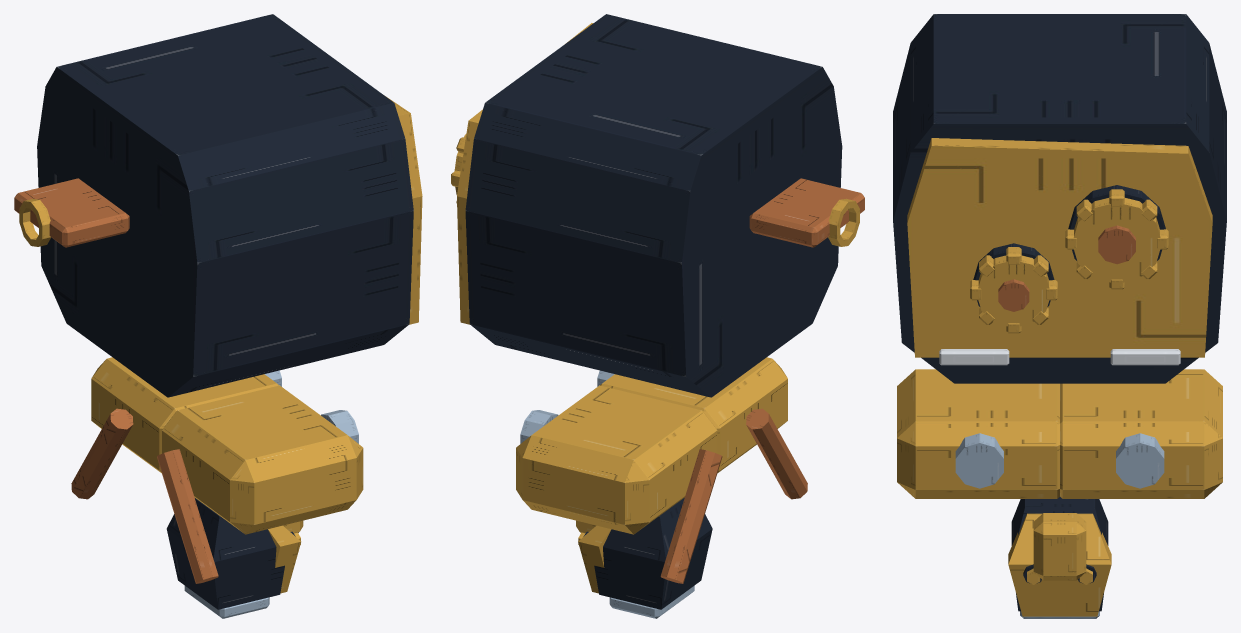
The model's file is clockwork.glb.
3 renders of one model, left to right at view 1: azimuth 30°, elevation 25°; view 2: azimuth 150°, elevation 25°; view 3: azimuth 270°, elevation 25°, orthographic. The views are drawn at different scales.
Visible parts, largest first — view 1: chest, arm_R, arm_L, forearm_L; view 2: chest, arm_L, arm_R, forearm_L; view 3: chest, arm_L, arm_R, forearm_L.
Boxes of the visible parts, x1,y1,x2,y2 form: chest: (14, 14, 422, 397); arm_R: (157, 385, 363, 583); arm_L: (71, 357, 303, 533); forearm_L: (166, 498, 301, 618); chest: (451, 14, 864, 397); arm_L: (516, 385, 722, 583); arm_R: (597, 357, 807, 499); forearm_L: (578, 498, 712, 618); chest: (893, 14, 1226, 383); arm_L: (1033, 369, 1222, 580); arm_R: (897, 369, 1059, 498); forearm_L: (1008, 497, 1111, 618).
Bounding box in the file's own units: 0.385 × 0.5405 × 0.304.
Materials: 5 (5 with a texture image).
